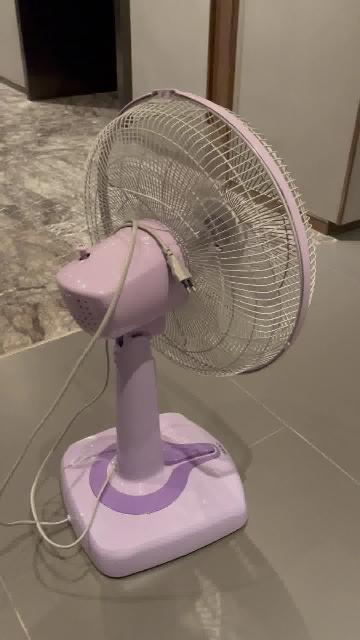Fan: (57, 91, 311, 581)
